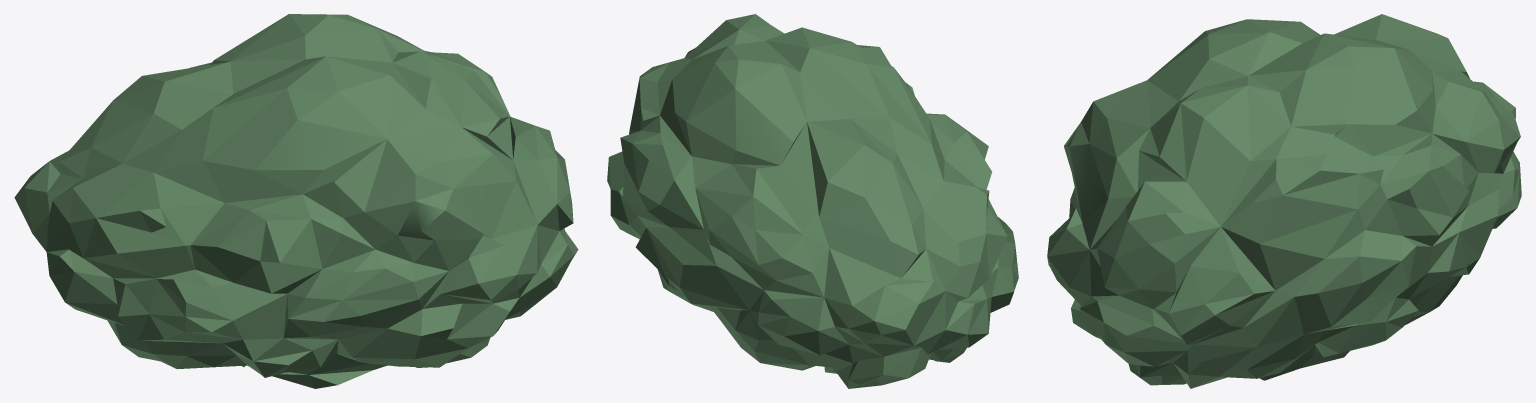
File: shrub5.fbx
3 renders of one model, left to right at view 1: azimuth 30°, elevation 25°; view 2: azimuth 150°, elevation 25°; view 3: azimuth 270°, elevation 25°, orthographic. The views are drawn at different scales.
Visible parts, largest first — view 1: shrub5; view 2: shrub5; view 3: shrub5.
Part boxes in pixels (x1,y1,x2,y2): shrub5: (14, 14, 578, 388); shrub5: (607, 14, 1018, 388); shrub5: (1047, 14, 1521, 388).
Bounding box in the file's own units: 5.11 × 3.6 × 4.57.
